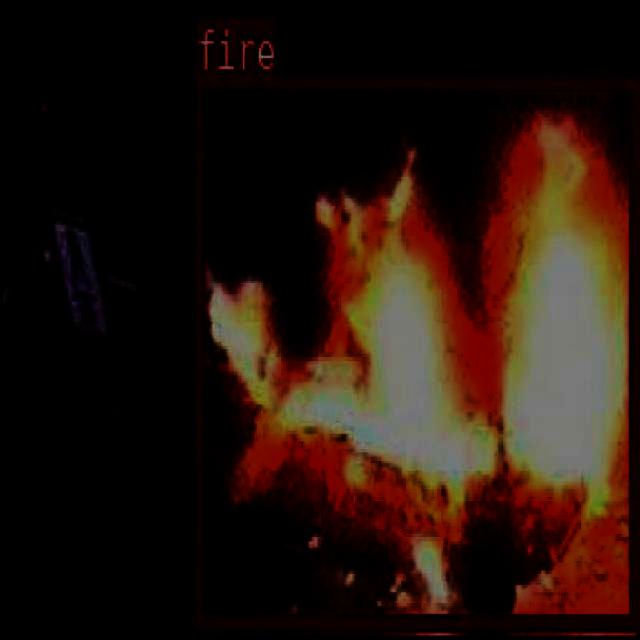fire: (193, 72, 636, 626)
